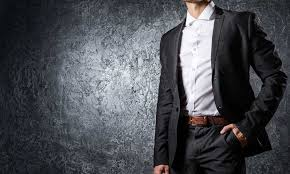F_M_suit jacket: (150, 9, 278, 166)
F_belt: (176, 111, 259, 131)
